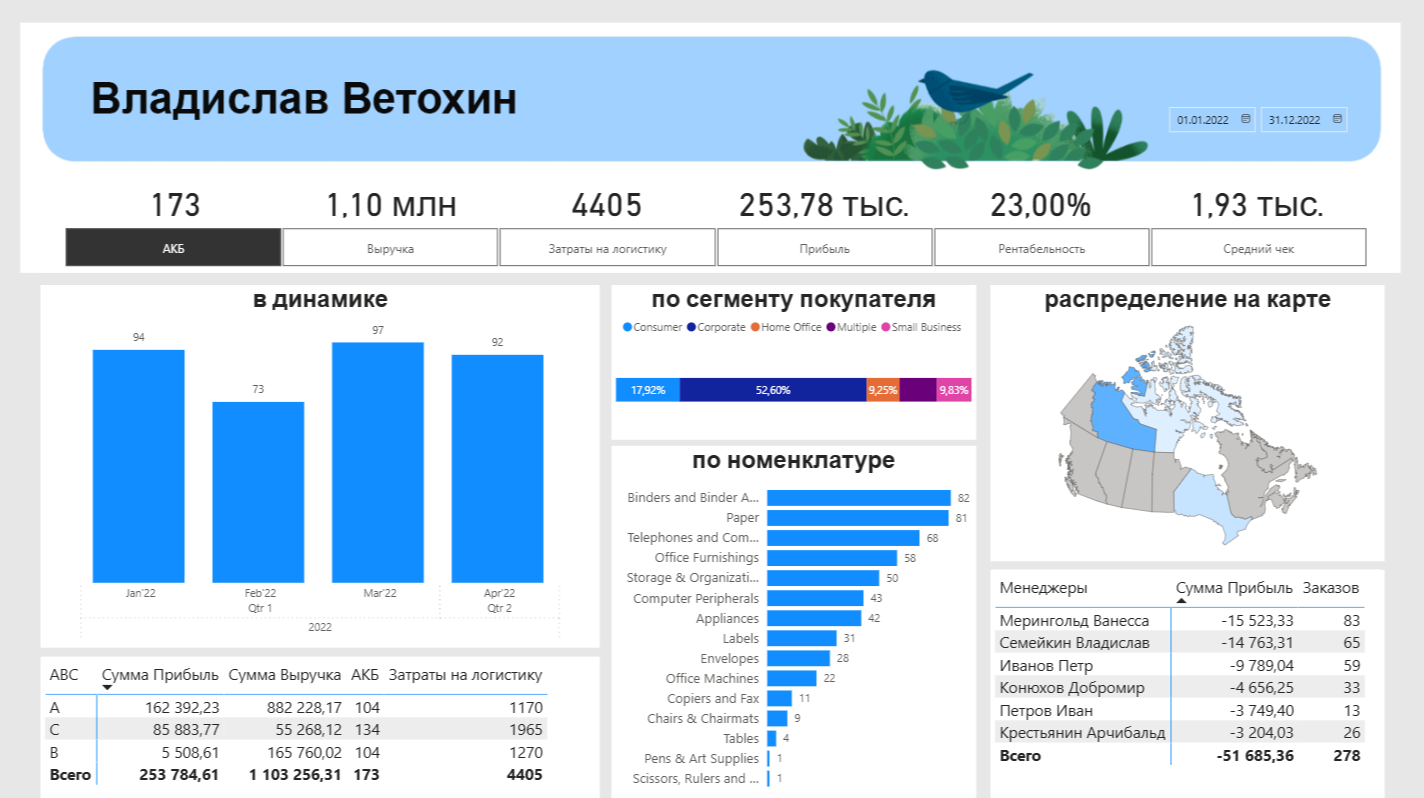

The page's visual inventory and layout, read from the dashboard file:
{"tool":"powerbi","page":{"name":"Page 1","canvas":[1920,1080],"ordinal":0},"visuals":[{"type":"barChart","title":"по номенклатуре","fields":{"Category":["СПР_продукты.Подкатегория продукта","СПР_продукты.Продукт","СПР_продукты.Категория продукта"],"Y":["Календарь.Выбор метрики"]},"box":[850,592.5,405,392.5],"z":0},{"type":"pivotTable","fields":{"Rows":["Продажи.ABC"],"Values":["Продажи.Прибыль","Продажи.Выручка","Продажи.АКБ","Продажи.Затраты на логистику"]},"box":[215.2,826.2,621.4,159],"z":1000},{"type":"actionButton","box":[0,0,100,40],"z":2000},{"type":"columnChart","title":"в динамике","fields":{"Category":["Календарь.Год","Календарь.Квартал","Календарь.Column"],"Y":["Календарь.Выбор метрики"]},"box":[215.2,413.3,621.4,402.9],"z":3000},{"type":"hundredPercentStackedBarChart","title":"по сегменту покупателя","fields":{"Y":["Календарь.Выбор метрики"],"Series":["Новые категории.Обновленные категории"]},"box":[850,413.3,405,171.7],"z":4000},{"type":"shapeMap","title":"распределение на карте","fields":{"Category":["Продажи.Регион"],"Value":["Календарь.Выбор метрики"]},"box":[1271.1,413.2,438.4,307.4],"z":5000},{"type":"pivotTable","fields":{"Rows":["Отрицательные заказы.СПР_Менеджеры.Менеджер"],"Values":["Отрицательные заказы.Прибыль_сумма","Календарь.Число отрицательных заказов"]},"box":[1271.1,730,438.4,255.3],"z":6000},{"type":"card","fields":{"Values":["Новые категории.АКБ"]},"box":[244.7,295.6,241.2,50.6],"z":7000},{"type":"card","fields":{"Values":["Новые категории.Measure"]},"box":[1447.6,294.1,237.6,53.5],"z":8000},{"type":"card","fields":{"Values":["Продажи.Прибыль"]},"box":[965.3,295.9,240,50],"z":9000},{"type":"card","fields":{"Values":["Продажи.Выручка"]},"box":[485.9,297.6,238.2,46.5],"z":10000},{"type":"card","fields":{"Values":["Новые категории.рентабельность_2"]},"box":[1205.3,294.4,242.4,52.9],"z":11000},{"type":"card","fields":{"Values":["Продажи.Затраты на логистику"]},"box":[724.1,291.5,241.2,58.8],"z":12000},{"type":"slicer","fields":{"Values":["Метрики.Метрика"]},"box":[217.7,343.2,1495,56.4],"z":13000},{"type":"slicer","fields":{"Values":["Календарь.Дата"]},"box":[1456.2,205,218.8,43.8],"z":14000}]}

Visuals, with their boxes in screenshot pixels (x1, y1, x2, y2), scaled from the page's 1920x1080 canvas onto the 1424x798 screenshot:
"по номенклатуре" barChart: pyautogui.locateOnScreen(630, 438, 931, 728)
pivotTable - Продажи.ABC x Продажи.Прибыль: pyautogui.locateOnScreen(160, 610, 620, 728)
actionButton: pyautogui.locateOnScreen(0, 0, 74, 30)
"в динамике" columnChart: pyautogui.locateOnScreen(160, 305, 620, 603)
"по сегменту покупателя" hundredPercentStackedBarChart: pyautogui.locateOnScreen(630, 305, 931, 432)
"распределение на карте" shapeMap: pyautogui.locateOnScreen(943, 305, 1268, 532)
pivotTable - Отрицательные заказы.СПР_Менеджеры.Менеджер x Отрицательные заказы.Прибыль_сумма: pyautogui.locateOnScreen(943, 539, 1268, 728)
card - Новые категории.АКБ: pyautogui.locateOnScreen(181, 218, 360, 256)
card - Новые категории.Measure: pyautogui.locateOnScreen(1074, 217, 1250, 257)
card - Продажи.Прибыль: pyautogui.locateOnScreen(716, 219, 894, 256)
card - Продажи.Выручка: pyautogui.locateOnScreen(360, 220, 537, 254)
card - Новые категории.рентабельность_2: pyautogui.locateOnScreen(894, 218, 1074, 257)
card - Продажи.Затраты на логистику: pyautogui.locateOnScreen(537, 215, 716, 259)
slicer - Метрики.Метрика: pyautogui.locateOnScreen(161, 254, 1270, 295)
slicer - Календарь.Дата: pyautogui.locateOnScreen(1080, 151, 1242, 184)
